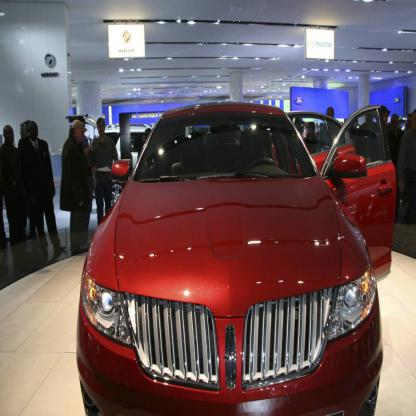Car: (75, 101, 397, 415)
